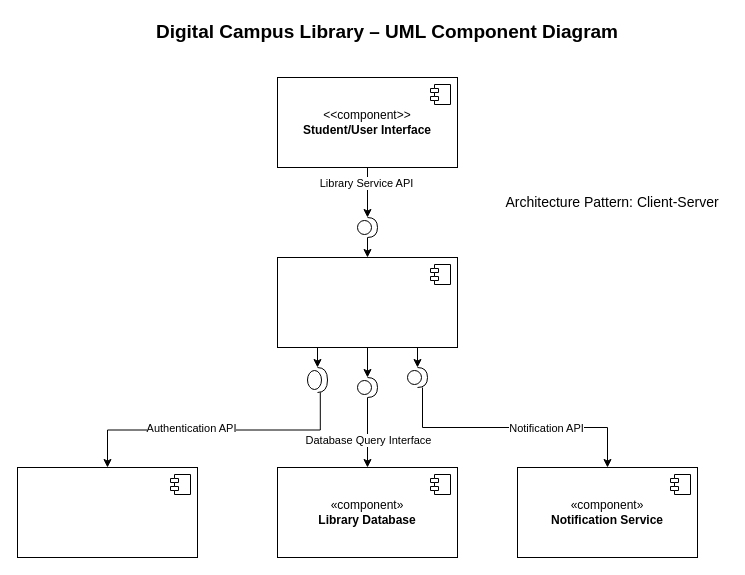
The diagram is 745 pixels wide and 575 high, and some of its shapes have lost their labels. The box of each missing label's shape, as (x1, y1, x2, y2) in pixels:
«component» Authentication Service: (16, 466, 198, 558)
«component» Library Management: (276, 256, 458, 348)
